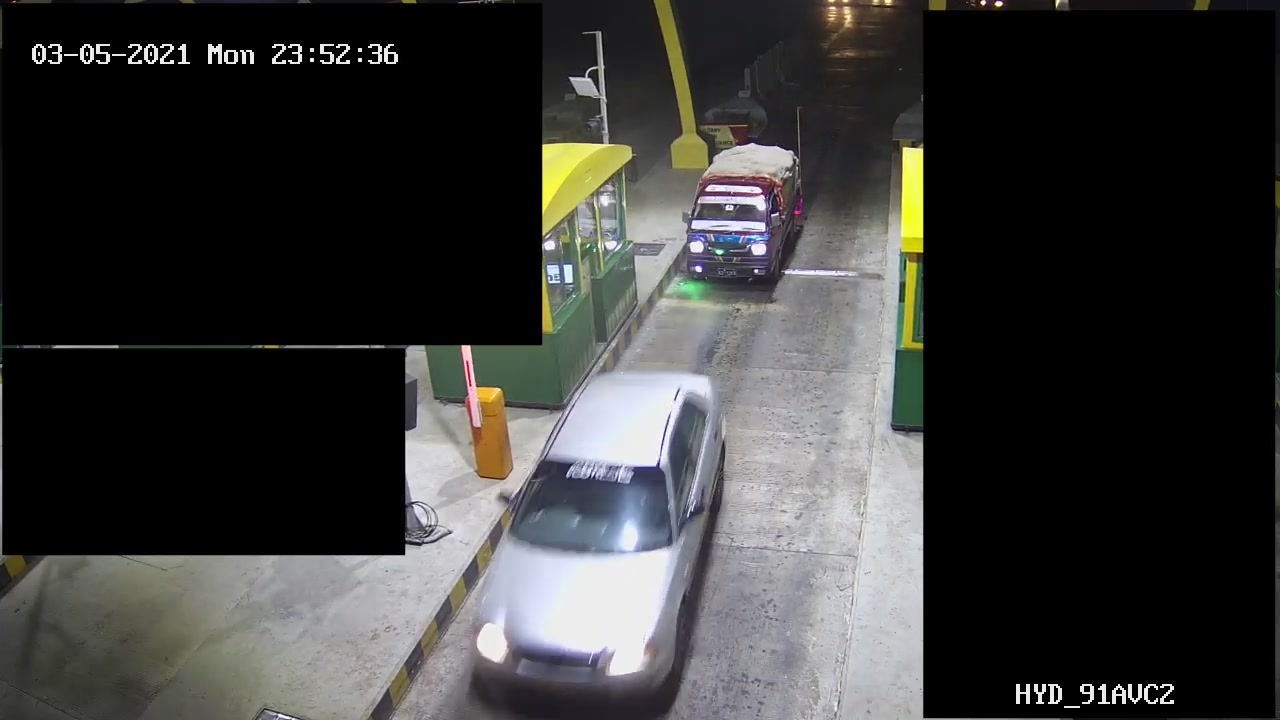F1: (682, 142, 809, 289)
